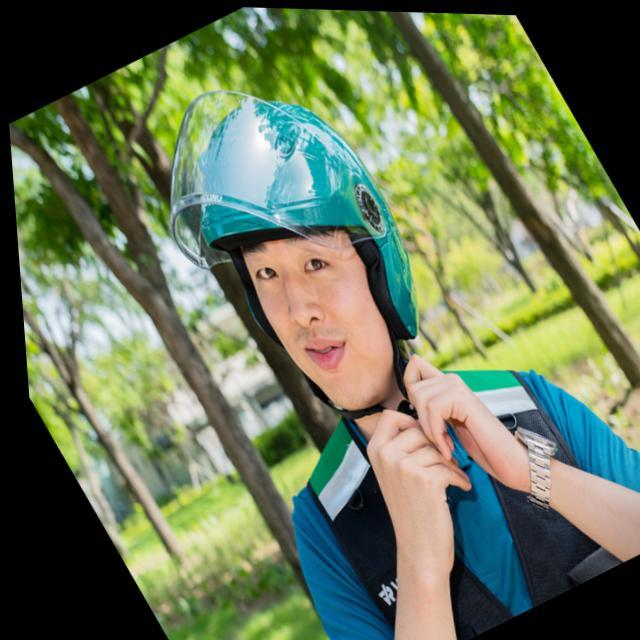Helmet: (166, 86, 424, 416)
